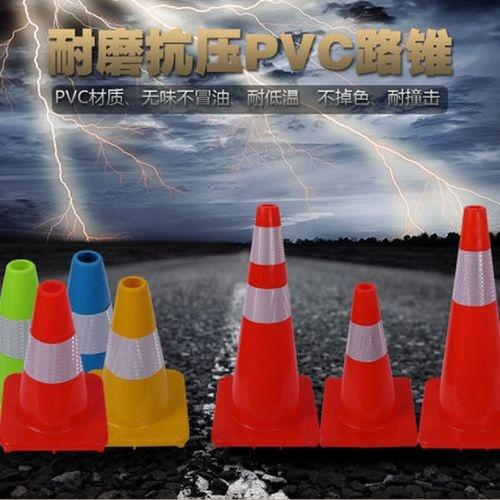cone_barrel: (209, 210, 318, 447), (419, 206, 499, 445), (4, 278, 104, 451), (92, 278, 182, 443), (320, 288, 407, 447), (66, 246, 114, 365)
